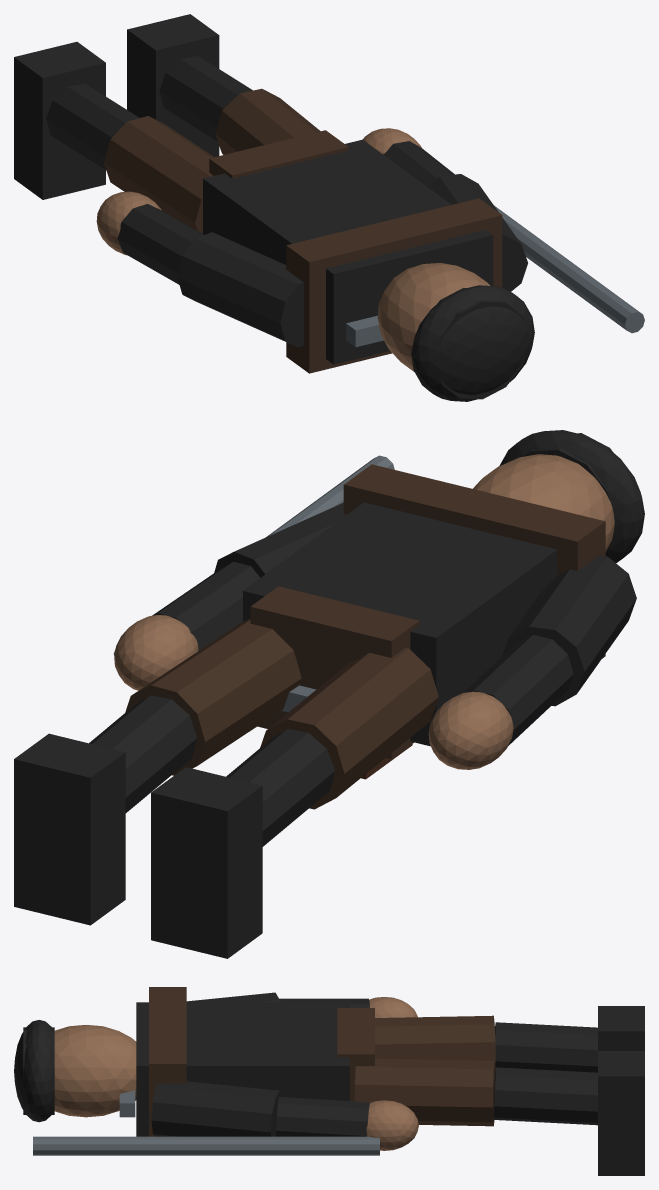
The model's file is SM_CharacterRaider_Preview.obj.
The picture shows the model from 3 angles, top to bottom: view 1: azimuth 30°, elevation 25°; view 2: azimuth 150°, elevation 25°; view 3: azimuth 270°, elevation 25°; orthographic projection. The views are drawn at different scales.
Bounding box in the file's own units: 0.9801 × 0.405 × 2.01.
